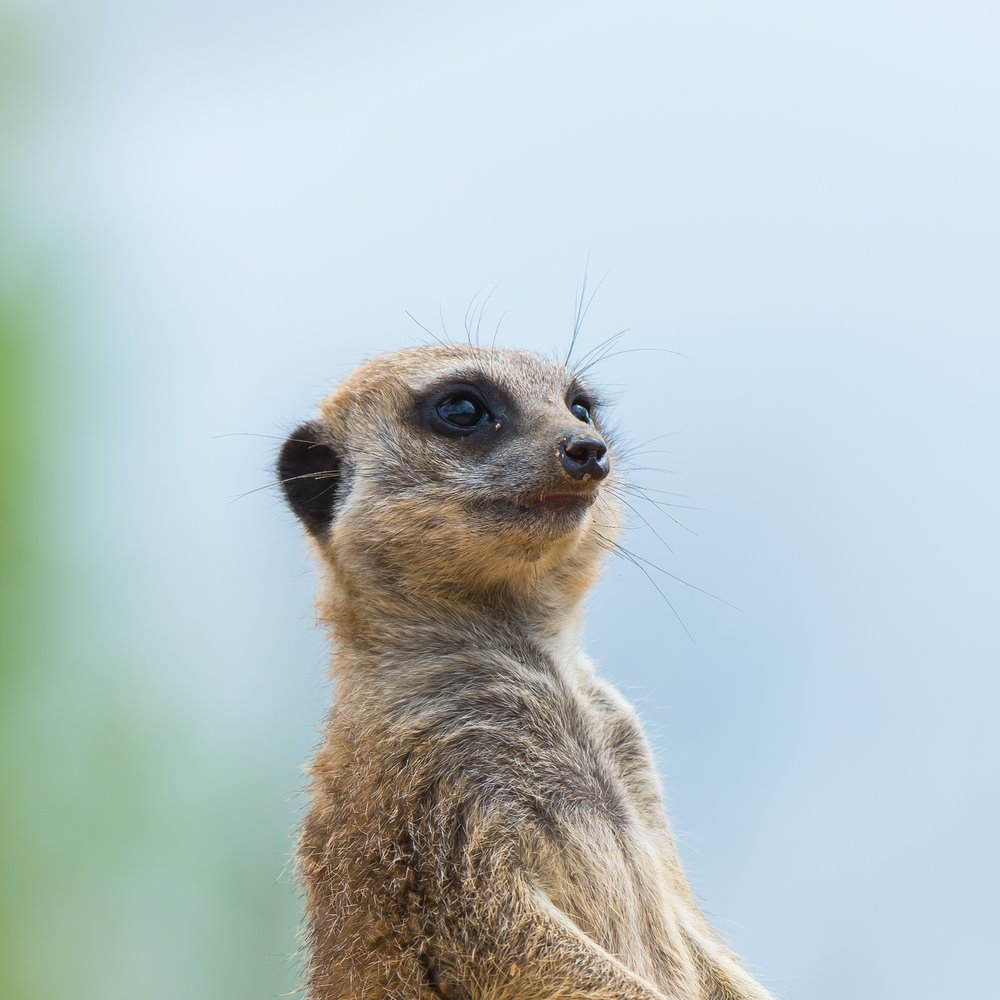meerkat: (248, 291, 804, 999)
